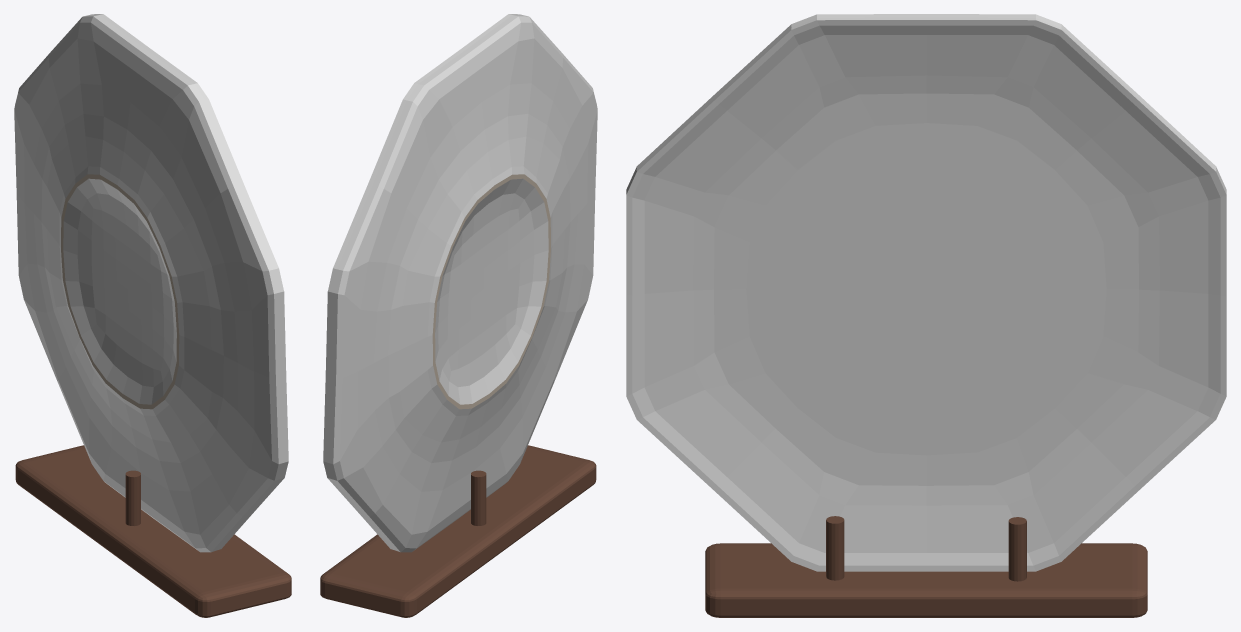
The model's file is plate.glb.
The picture shows the model from 3 angles, left to right: view 1: azimuth 30°, elevation 25°; view 2: azimuth 150°, elevation 25°; view 3: azimuth 270°, elevation 25°; orthographic projection. The views are drawn at different scales.
Parts seen in each view (by area): view 1: Cylinder.003, Roundcube, Cylinder; view 2: Cylinder.003, Roundcube, Cylinder; view 3: Cylinder.003, Roundcube, Cylinder.001, Cylinder.002.
Boxes of the visible parts, x1=… form: Cylinder.003: x1=14, y1=14, x2=288, y2=552; Roundcube: x1=15, y1=445, x2=291, y2=617; Cylinder: x1=125, y1=470, x2=140, y2=525; Cylinder.003: x1=323, y1=14, x2=597, y2=552; Roundcube: x1=320, y1=445, x2=596, y2=617; Cylinder: x1=471, y1=470, x2=486, y2=525; Cylinder.003: x1=626, y1=14, x2=1226, y2=571; Roundcube: x1=705, y1=543, x2=1147, y2=617; Cylinder.001: x1=1008, y1=517, x2=1026, y2=581; Cylinder.002: x1=826, y1=516, x2=844, y2=580.
Size of the model in its own units: 0.5567 by 2.77 by 2.63.
